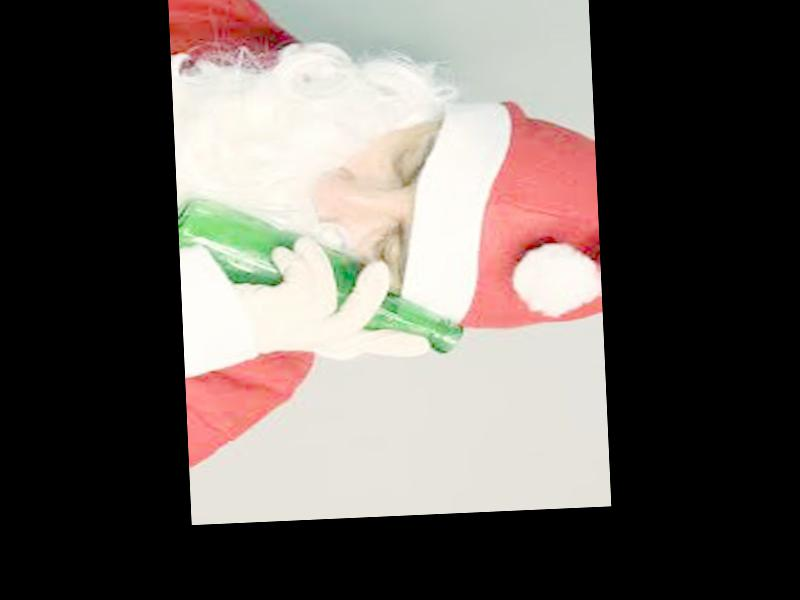Beer: (176, 190, 461, 366)
